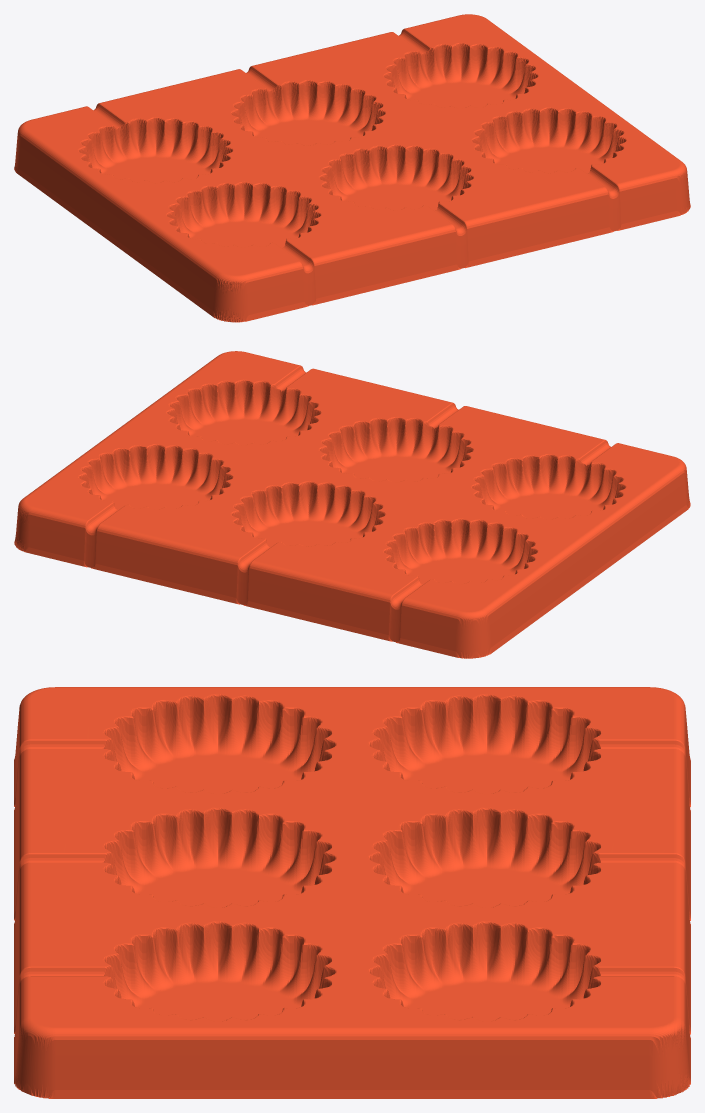
The model's file is mold.glb.
The picture shows the model from 3 angles, top to bottom: view 1: azimuth 30°, elevation 25°; view 2: azimuth 150°, elevation 25°; view 3: azimuth 270°, elevation 25°; orthographic projection. The views are drawn at different scales.
Parts seen in each view (by area): view 1: geometry_0; view 2: geometry_0; view 3: geometry_0.
Boxes of the visible parts, x1,y1,x2,y2 form: geometry_0: (14,14,690,322); geometry_0: (14,351,690,658); geometry_0: (14,687,690,1098).
Size of the model in its own units: 0.1824 by 0.0155 by 0.1477.
